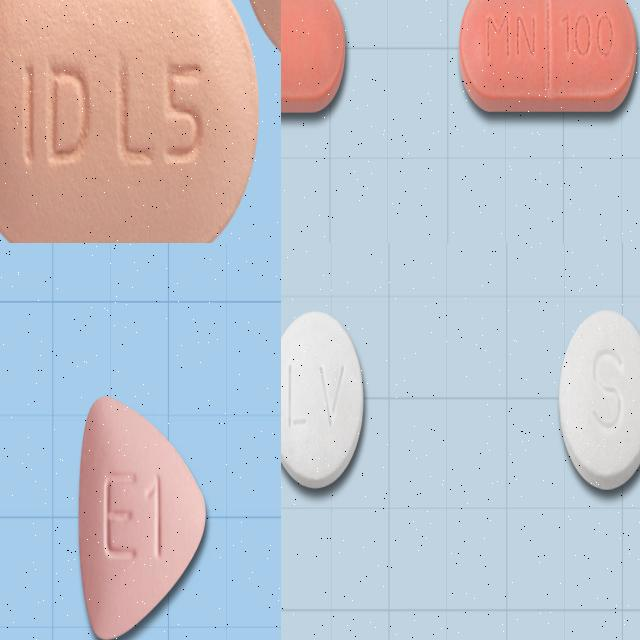Entecabell: (77, 394, 206, 640)
Levobacter: (281, 308, 365, 488), (559, 306, 640, 490)
Levofexin: (0, 0, 260, 243)
Monocin: (459, 0, 638, 114), (281, 0, 346, 110)
